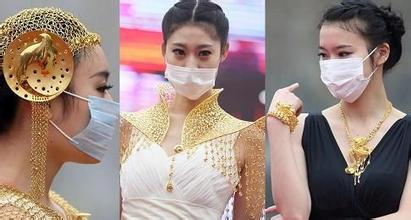OK: (43, 73, 123, 166), (320, 43, 377, 104)
WRONG: (167, 36, 217, 97)
